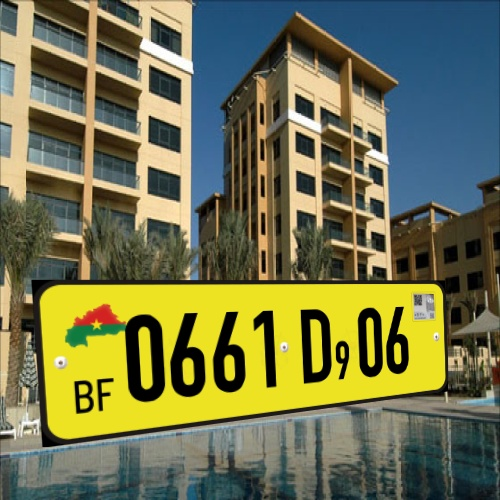plate: (18, 258, 467, 451)
